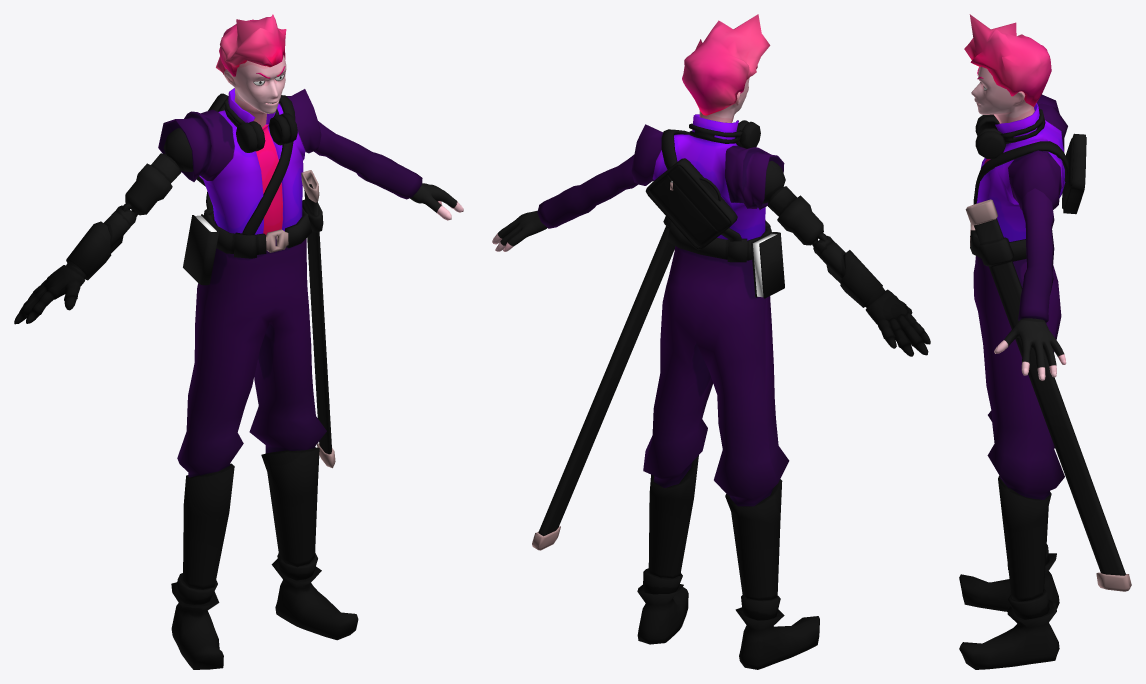
Rendered from PlayerCharacter.fbx.
The picture shows the model from 3 angles, left to right: view 1: azimuth 30°, elevation 25°; view 2: azimuth 150°, elevation 25°; view 3: azimuth 270°, elevation 25°; orthographic projection. The views are drawn at different scales.
Parts seen in each view (by area): view 1: PlayerCharacter; view 2: PlayerCharacter; view 3: PlayerCharacter.
Part boxes in pixels (x1,y1,x2,y2): PlayerCharacter: (14,14,463,669); PlayerCharacter: (492,14,930,669); PlayerCharacter: (959,14,1131,669).
Size of the model in its own units: 1022 by 1382 by 355.
